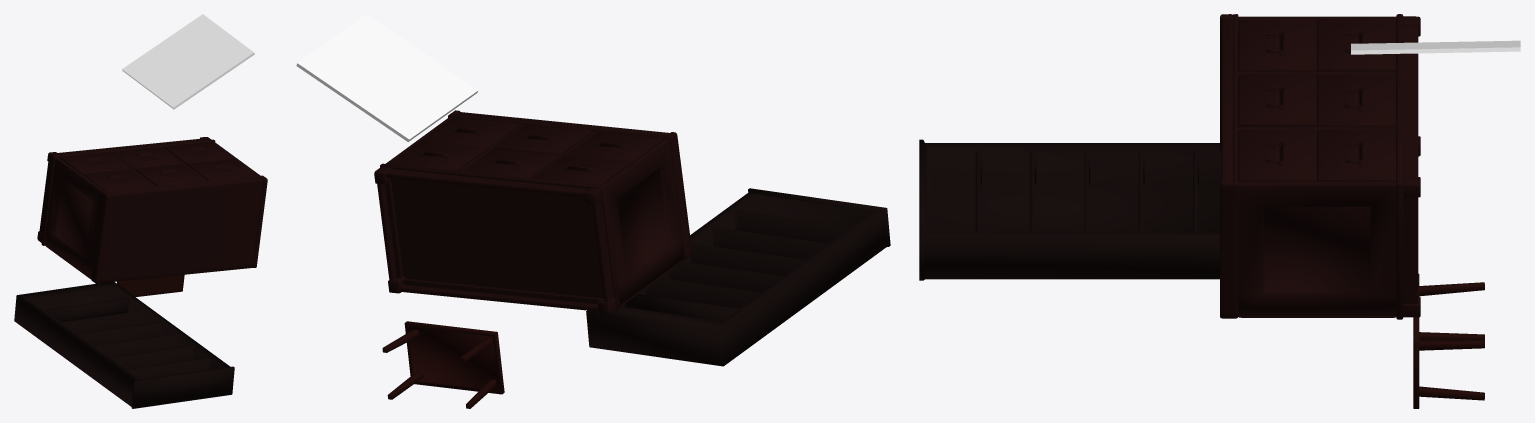
3 views of the same model, side by side, from view 1: azimuth 30°, elevation 25°; view 2: azimuth 150°, elevation 25°; view 3: azimuth 270°, elevation 25° (orthographic). The views are drawn at different scales.
Visible parts, largest first — view 1: diffuse_cabinet_01, diffuse_shelf_03, glass_table_01, diffuse_table_02; view 2: diffuse_cabinet_01, diffuse_shelf_03, glass_table_01, diffuse_table_02; view 3: diffuse_cabinet_01, diffuse_shelf_03, diffuse_table_02, glass_table_01.
Part boxes in pixels (x1=…): diffuse_cabinet_01: x1=37, y1=137, x2=267, y2=283; diffuse_shelf_03: x1=14, y1=281, x2=234, y2=408; glass_table_01: x1=122, y1=14, x2=254, y2=109; diffuse_table_02: x1=117, y1=274, x2=184, y2=296; diffuse_cabinet_01: x1=374, y1=110, x2=692, y2=314; diffuse_shelf_03: x1=586, y1=188, x2=890, y2=366; glass_table_01: x1=296, y1=14, x2=478, y2=141; diffuse_table_02: x1=382, y1=321, x2=504, y2=408; diffuse_cabinet_01: x1=1220, y1=14, x2=1420, y2=319; diffuse_shelf_03: x1=919, y1=139, x2=1221, y2=280; diffuse_table_02: x1=1413, y1=273, x2=1484, y2=408; glass_table_01: x1=1351, y1=40, x2=1520, y2=54.
Size of the model in its own units: 229 by 210 by 284.
